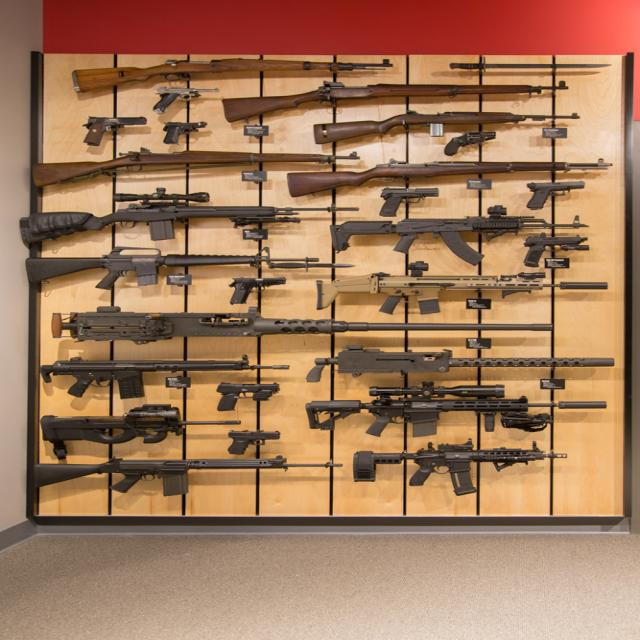HandGun: (522, 236, 584, 267), (216, 383, 279, 413), (83, 116, 143, 146), (527, 181, 584, 209), (380, 189, 439, 216), (228, 278, 285, 305), (151, 84, 201, 113), (442, 131, 495, 156), (226, 429, 279, 448), (161, 121, 203, 144)
Rifle: (305, 381, 607, 438), (333, 206, 590, 266), (224, 83, 571, 122), (19, 206, 363, 244), (74, 55, 394, 94), (352, 440, 568, 496), (288, 162, 614, 198), (31, 151, 334, 189), (318, 276, 608, 315), (26, 245, 254, 291), (31, 458, 287, 498), (314, 112, 556, 145), (116, 188, 213, 203)
SMG: (40, 355, 285, 400), (40, 404, 242, 445)
